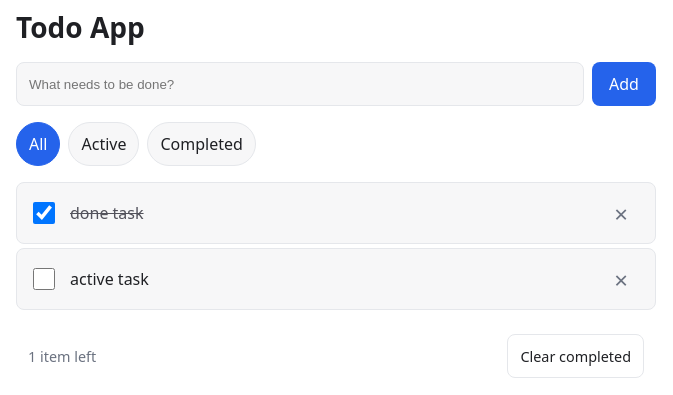
Test: App › filtering by Active hides completed rows in the list (E3.S5 I1)
The width and height of the screenshot is (673, 395).
Expected: the text "active task" is shown, [70, 268, 149, 290]
Expected: the text "done task" is shown, [70, 202, 144, 224]
Click the button "Active" at (104, 144), box [68, 122, 140, 166]
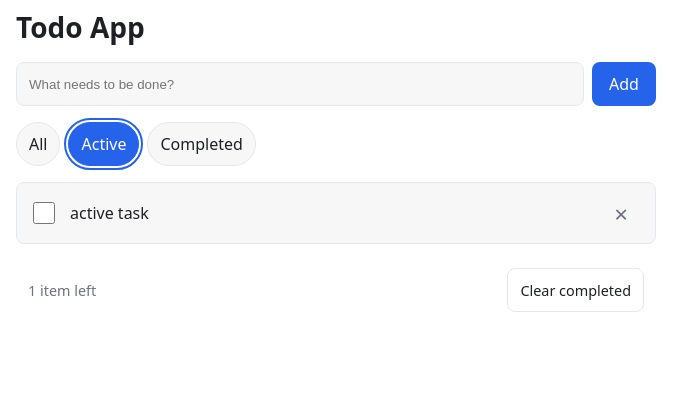
Expected: the text "active task" is shown, [70, 202, 149, 224]
Expected: the text "done task" is gone
